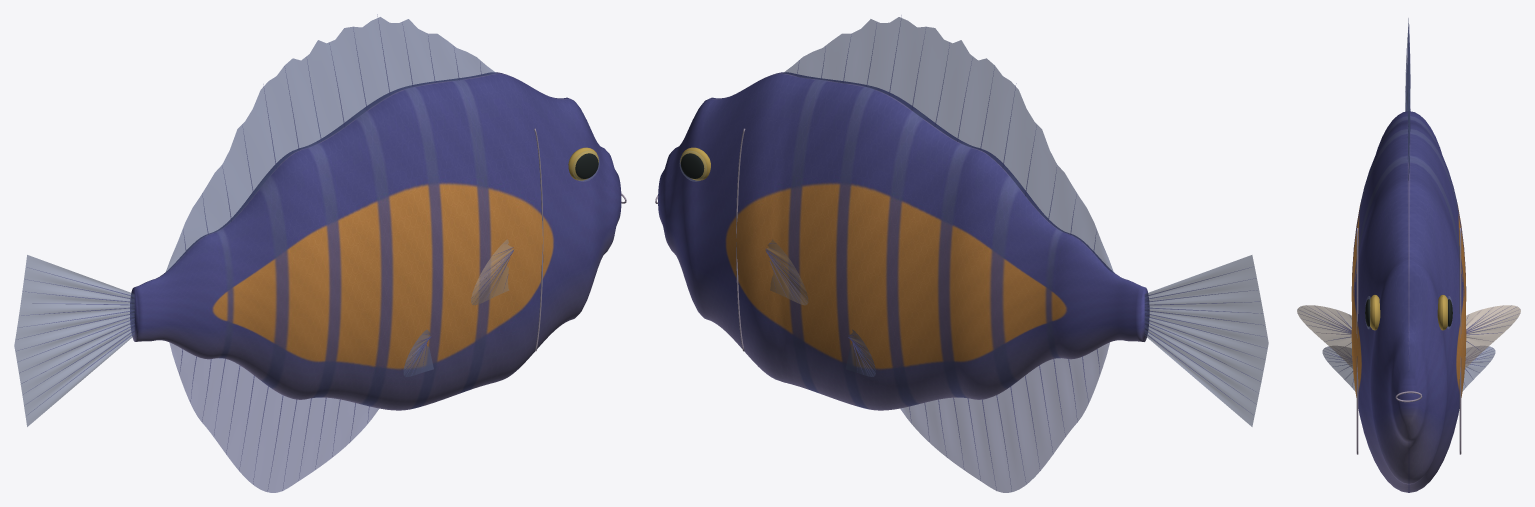
The model's file is beauty-desktop.glb.
The picture shows the model from 3 angles, left to right: view 1: azimuth 30°, elevation 25°; view 2: azimuth 150°, elevation 25°; view 3: azimuth 270°, elevation 25°; orthographic projection.
Visible parts, largest first — view 1: skin, dorsal, anal, tail, dorsal-ray, pectoral-left, pelvic-left; view 2: skin, dorsal, anal, tail, dorsal-ray, pectoral-left, pelvic-left; view 3: skin, pectoral-left, pelvic-left, operculum, dorsal-ray, eye-iris--1, dorsal.
Boxes of the visible parts, x1,y1,x2,y2 form: skin: (130, 72, 621, 410); dorsal: (165, 17, 496, 272); anal: (169, 342, 378, 492); tail: (14, 255, 134, 426); dorsal-ray: (17, 14, 513, 490); pectoral-left: (471, 239, 513, 305); pelvic-left: (403, 329, 433, 376); skin: (658, 72, 1149, 410); dorsal: (783, 17, 1114, 273); anal: (900, 342, 1109, 492); tail: (1144, 255, 1268, 426); dorsal-ray: (765, 15, 1266, 491); pectoral-left: (766, 239, 808, 305); pelvic-left: (845, 329, 875, 376); skin: (1351, 111, 1466, 492); pectoral-left: (1297, 305, 1520, 368); pelvic-left: (1322, 346, 1495, 391); operculum: (1356, 228, 1461, 454); dorsal-ray: (1300, 18, 1517, 384); eye-iris--1: (1370, 295, 1447, 330); dorsal: (1407, 19, 1410, 180).
Size of the model in its own units: 0.5972 by 0.4263 by 0.1875.
Materials: 11 (1 with a texture image).
